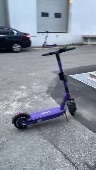beam: (9, 46, 80, 131)
